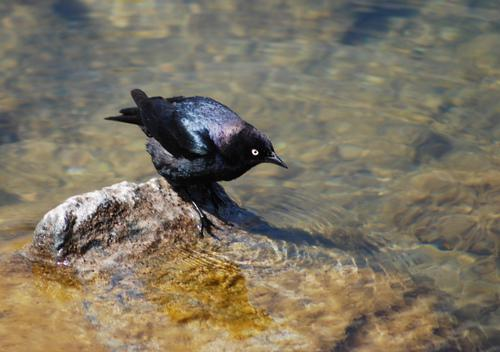009.Brewer_Blackbird: (103, 89, 292, 242)
